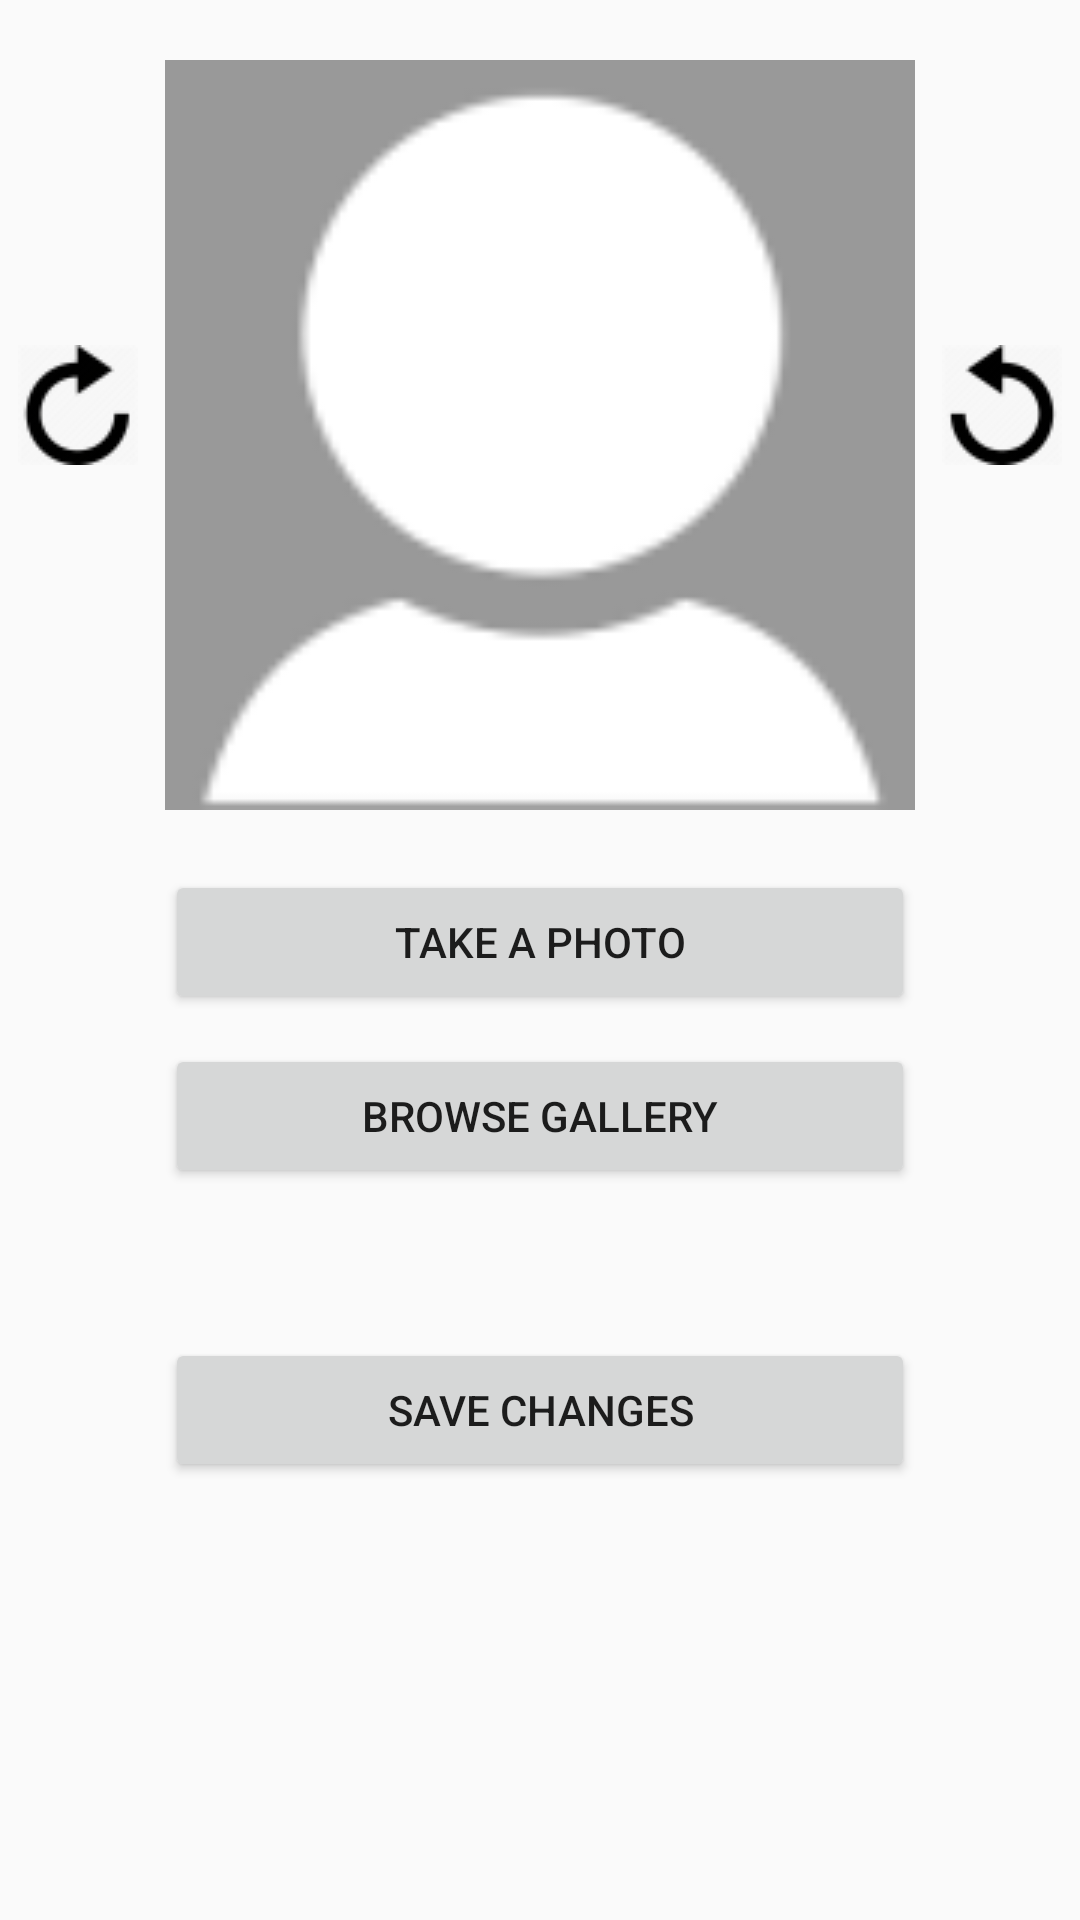

Locate icon controls on the screen. Image size 1080px x 1920px, boxes as (x1, y1, x2, y2).
rotate left: (950, 345, 1055, 465)
rotate right: (24, 345, 130, 465)
